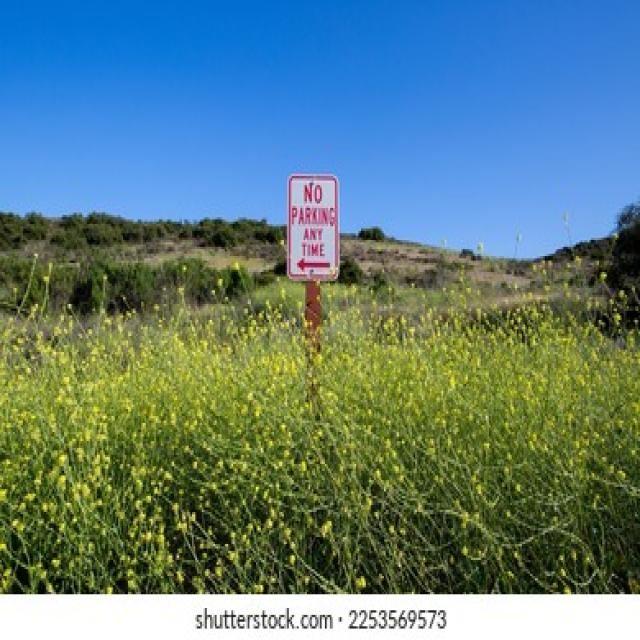Traffic sign: (288, 179, 338, 225)
